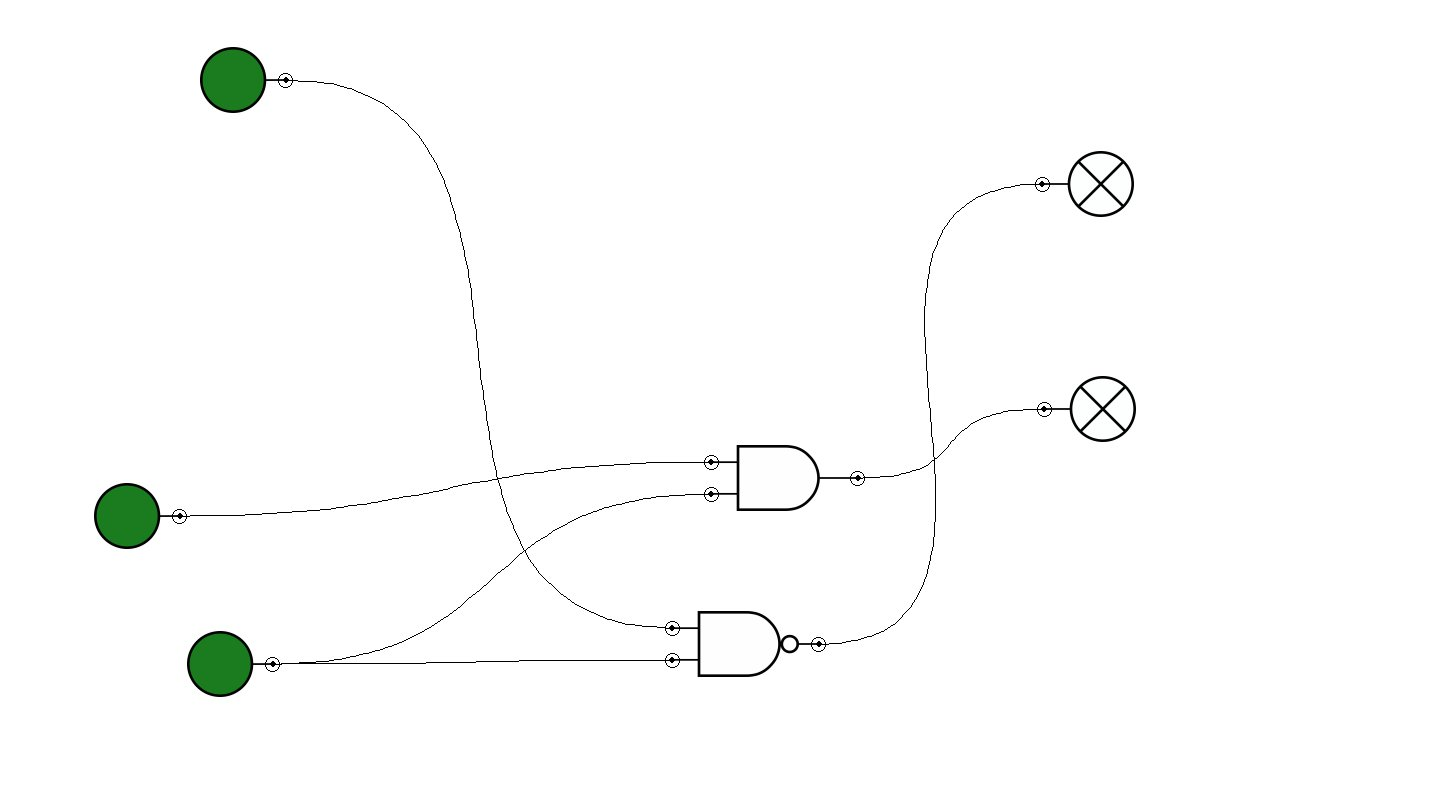and: (704, 445, 865, 511)
bulb: (1037, 376, 1136, 442), (1035, 151, 1134, 217)
nand: (665, 611, 826, 677)
switch_True: (94, 483, 187, 549), (187, 631, 280, 697), (200, 47, 293, 113)
